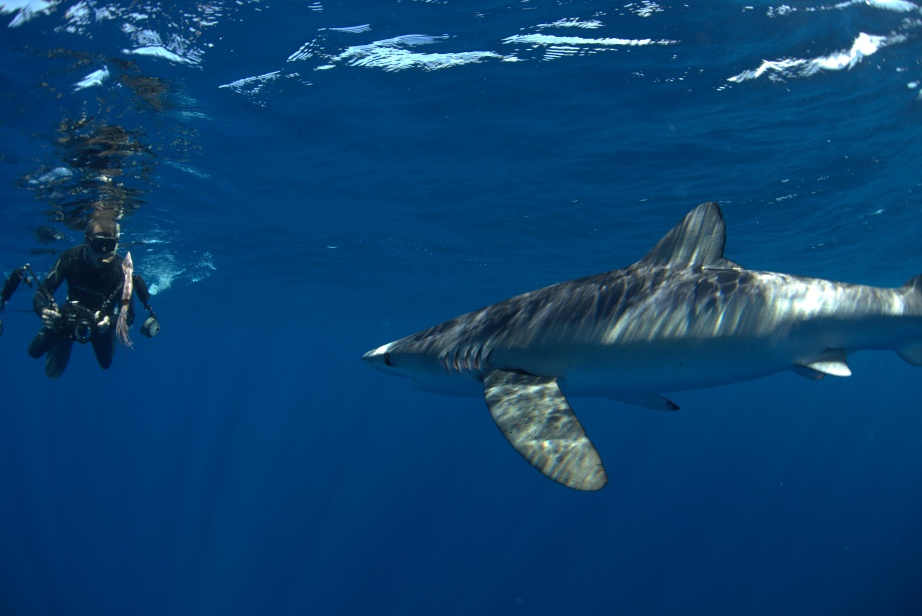Azul: (344, 171, 922, 504)
